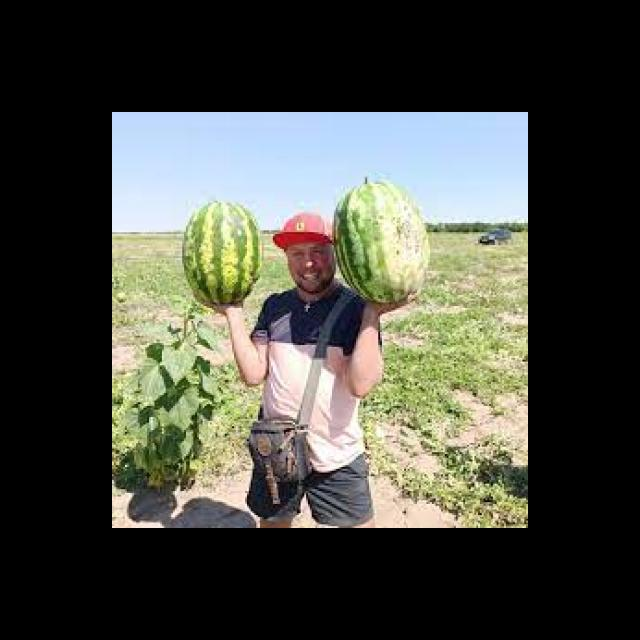watermelon: (332, 180, 431, 304), (181, 200, 263, 308)
